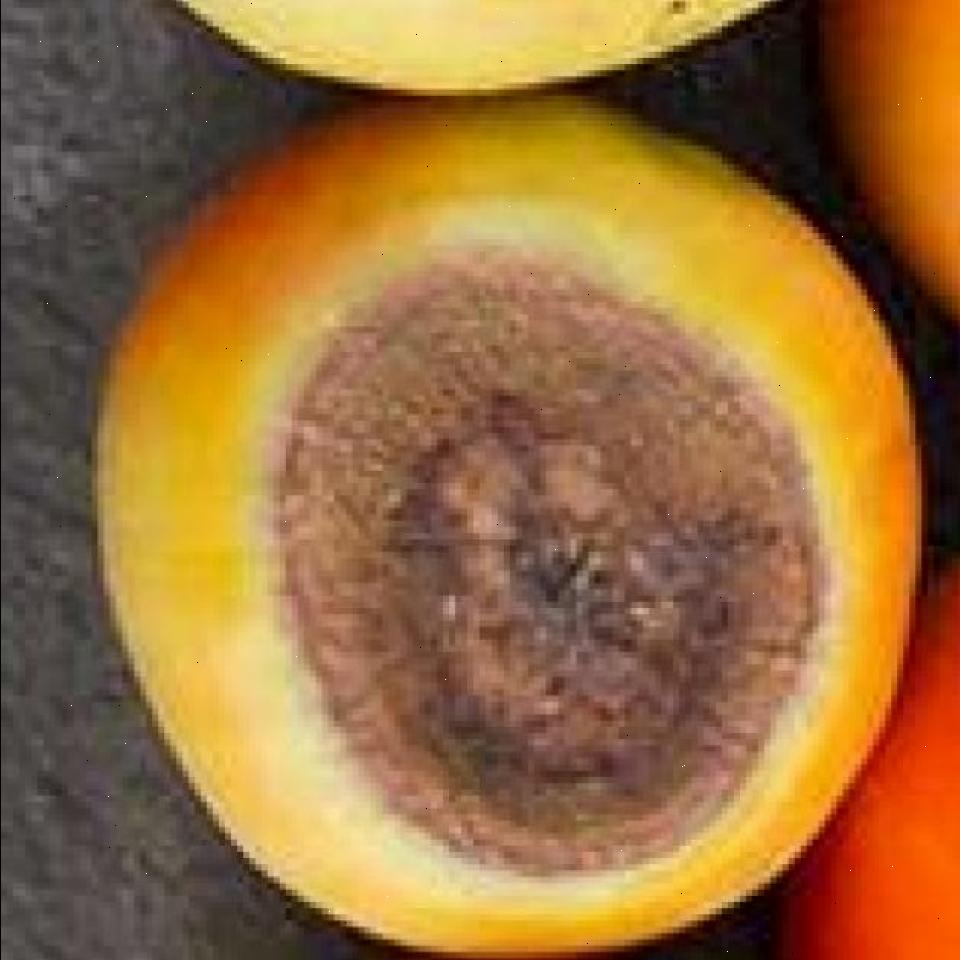Blossom_end_rot: (272, 252, 842, 878)
